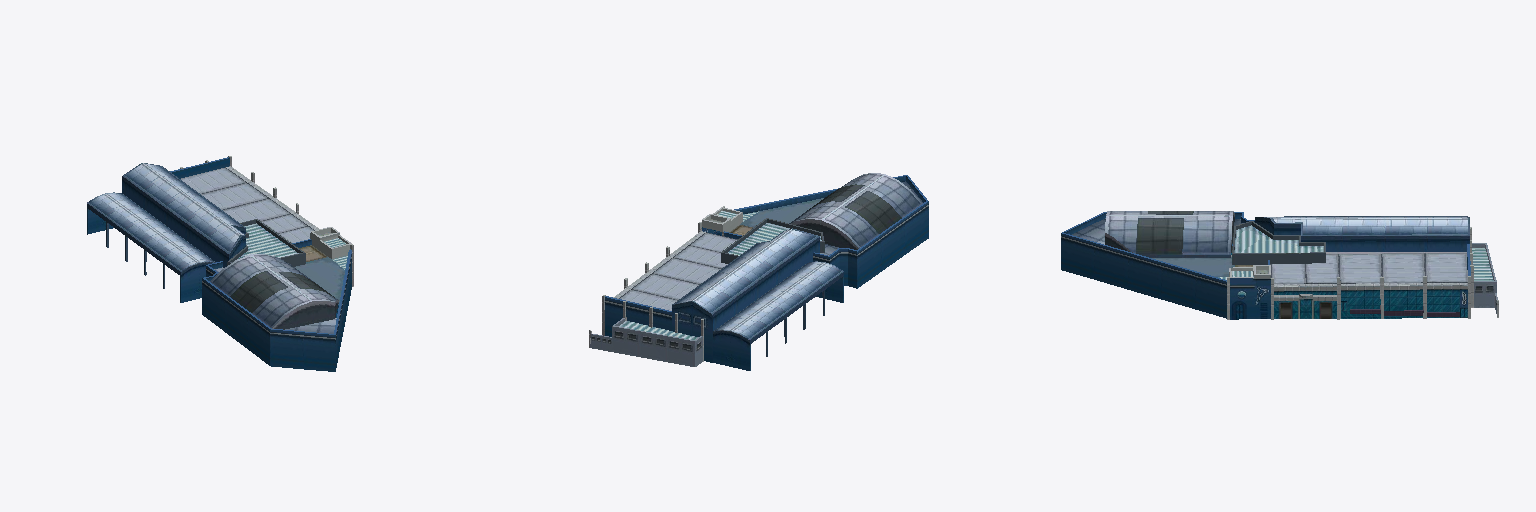
The picture shows the model from 3 angles: view 1: azimuth 30°, elevation 25°; view 2: azimuth 150°, elevation 25°; view 3: azimuth 270°, elevation 25°; orthographic projection.
Visible parts, largest first — view 1: acuario3; view 2: acuario3; view 3: acuario3.
Boxes of the visible parts, <box> form: acuario3: <box>87,156,353,371</box>; acuario3: <box>589,173,928,370</box>; acuario3: <box>1061,211,1498,319</box>.
Bounding box in the file's own units: 39.59 × 14.37 × 99.34.
1 materials, 1 textured.